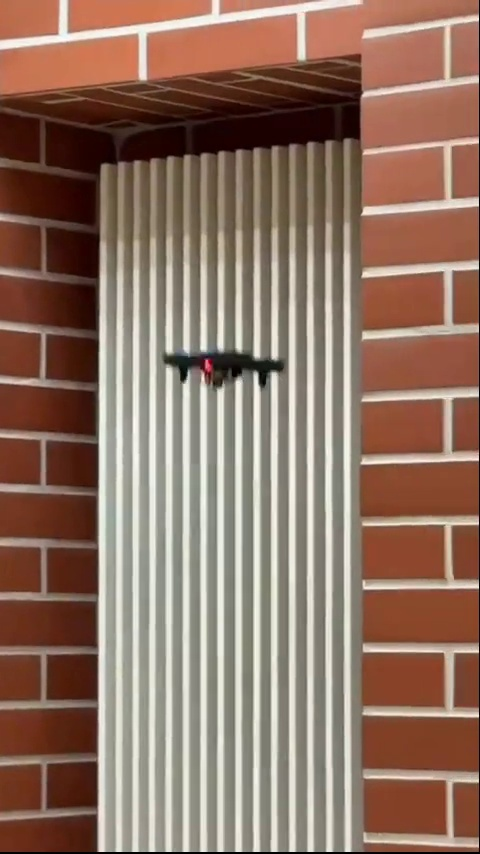drone: (162, 343, 284, 395)
